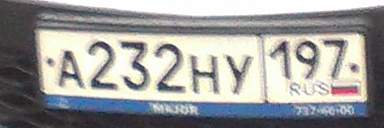character: (153, 38, 188, 97), (87, 40, 121, 95), (122, 38, 153, 96), (188, 51, 221, 97), (55, 49, 88, 93), (222, 52, 254, 96), (321, 38, 348, 83), (294, 38, 320, 83), (268, 38, 293, 83)
